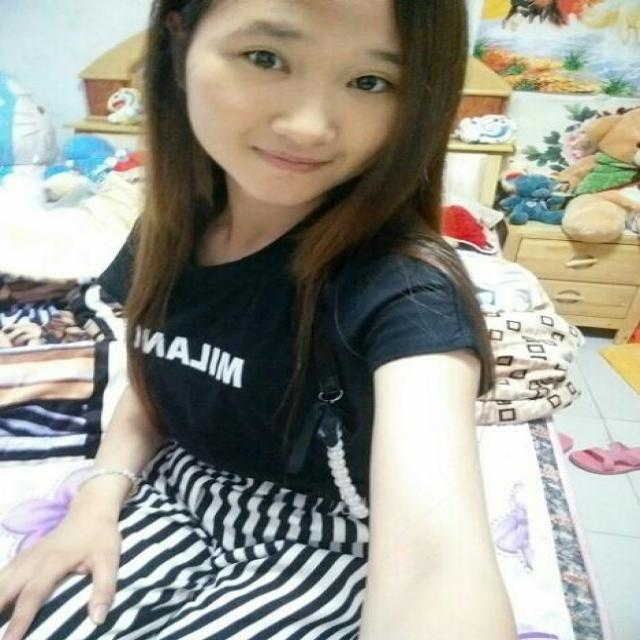short-sleeve-top: (112, 181, 536, 534)
